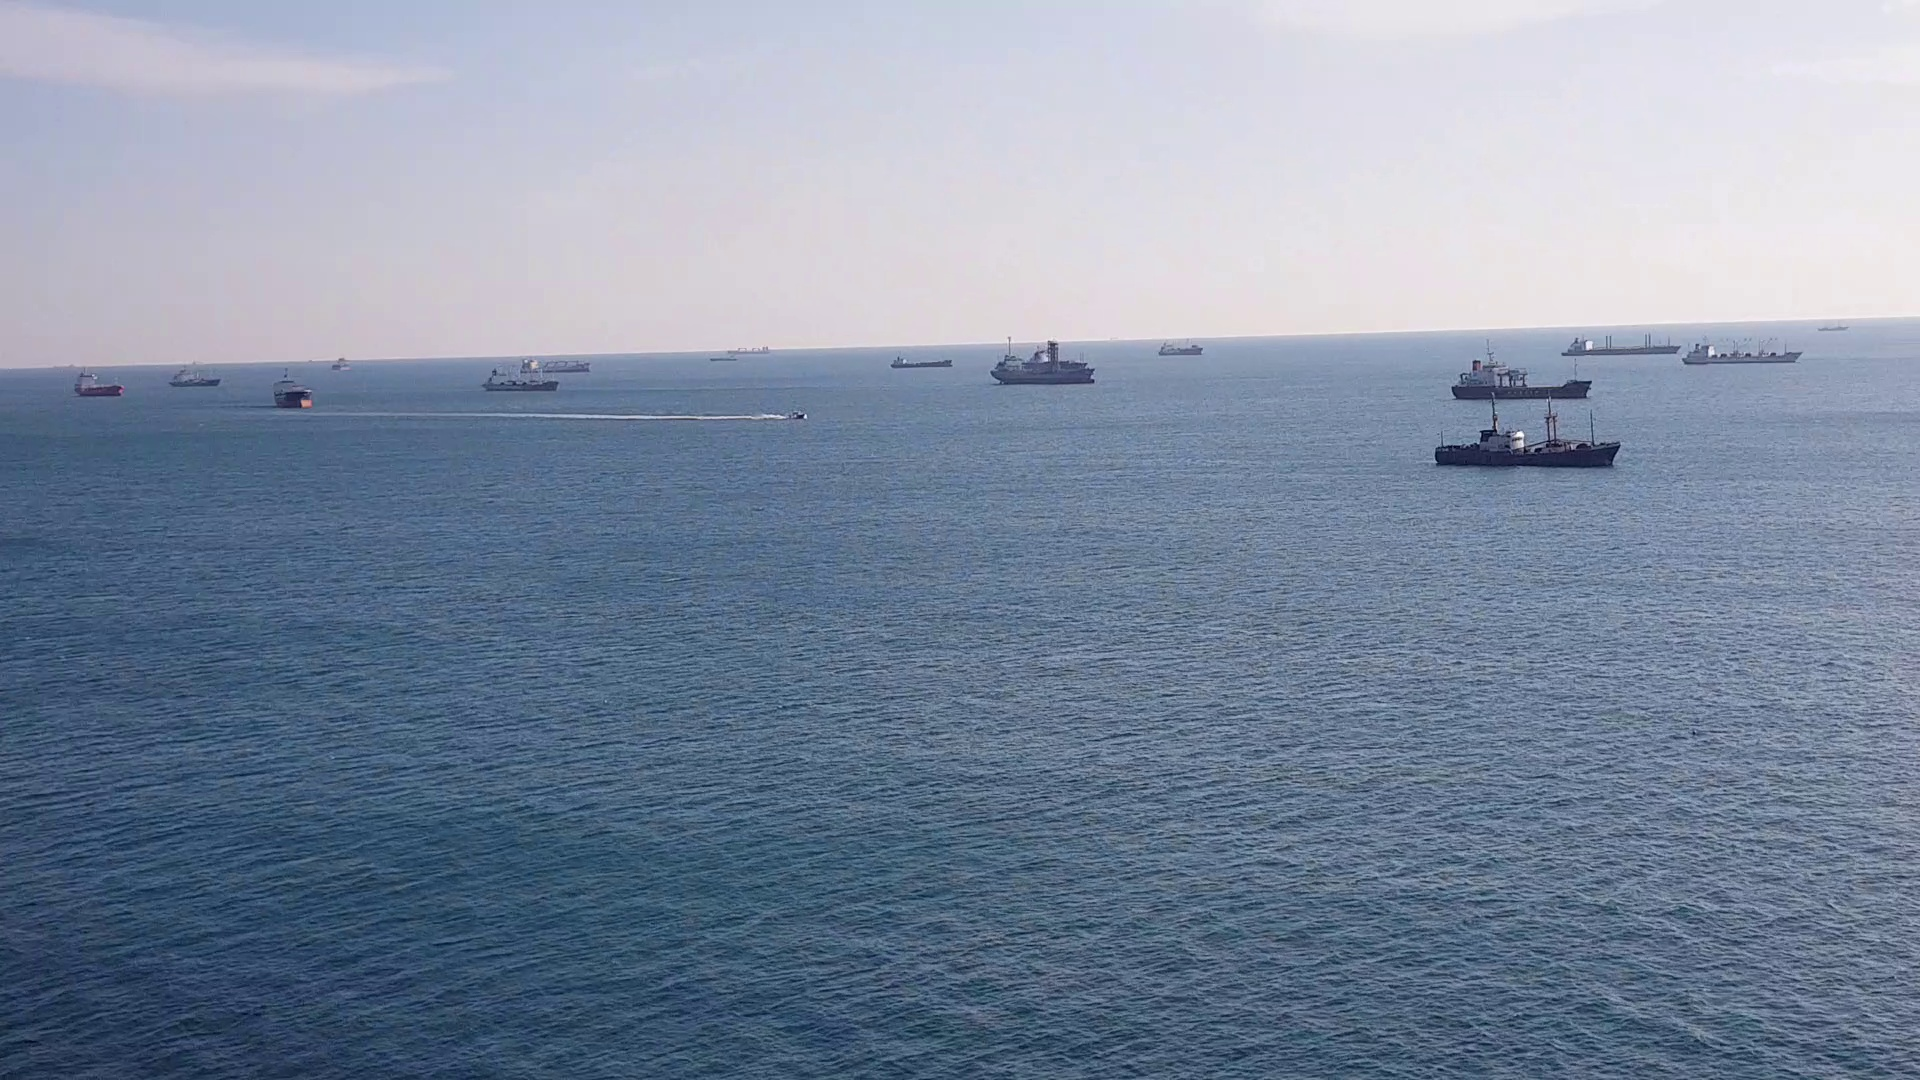Bulk_Carrier: (982, 352, 1095, 381), (1668, 343, 1796, 364), (471, 372, 575, 390)
